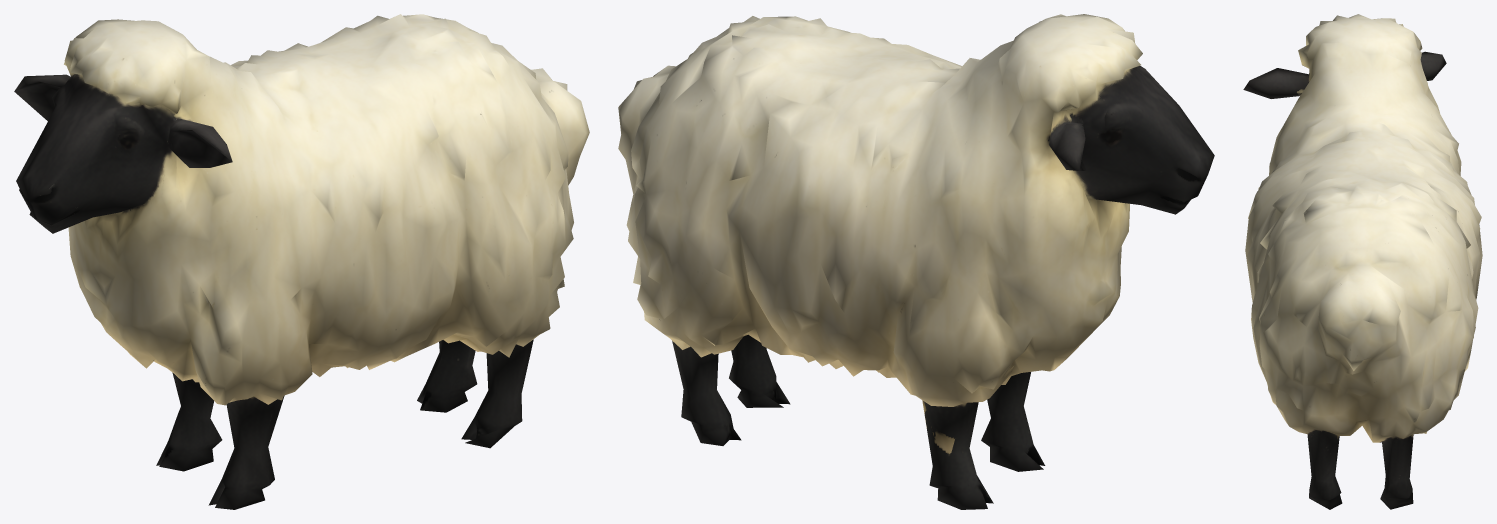
The model's file is sheep.glb.
3 views of the same model, side by side, from view 1: azimuth 30°, elevation 25°; view 2: azimuth 150°, elevation 25°; view 3: azimuth 270°, elevation 25° (orthographic). The views are drawn at different scales.
Parts seen in each view (by area): view 1: geometry_0.001; view 2: geometry_0.001; view 3: geometry_0.001.
Boxes of the visible parts, x1,y1,x2,y2 form: geometry_0.001: [14, 14, 589, 509]; geometry_0.001: [618, 14, 1214, 509]; geometry_0.001: [1243, 14, 1482, 509].
Bounding box in the file's own units: 1.99 × 1.59 × 0.9692.
1 material, 1 textured.
